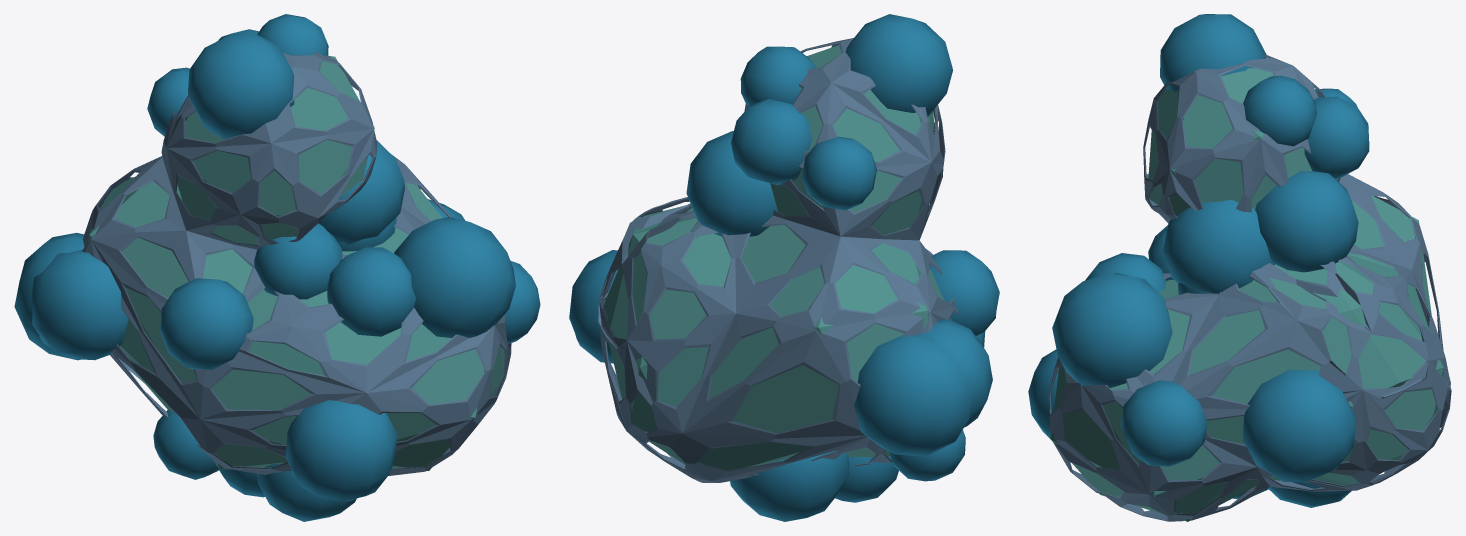
The model's file is glueBush7.fbx.
3 views of the same model, side by side, from view 1: azimuth 30°, elevation 25°; view 2: azimuth 150°, elevation 25°; view 3: azimuth 270°, elevation 25° (orthographic). The views are drawn at different scales.
Parts seen in each view (by area): view 1: Mball.008; view 2: Mball.008; view 3: Mball.008.
Part boxes in pixels (x1,y1,x2,y2): Mball.008: (14,14,540,521); Mball.008: (569,14,999,521); Mball.008: (1028,14,1451,521).
Bounding box in the file's own units: 274 × 296 × 246.
